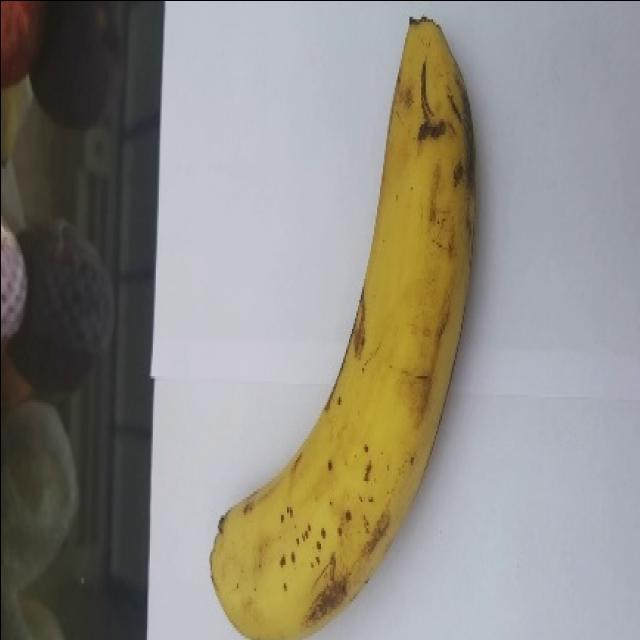Banana: (208, 14, 477, 639)
